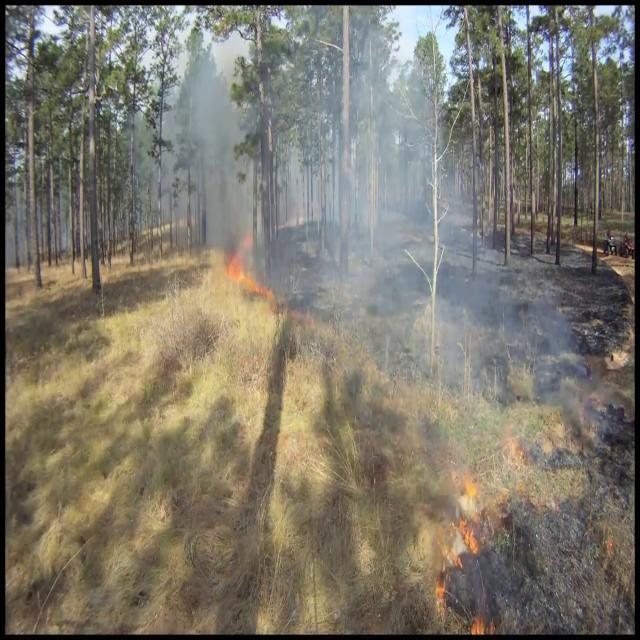Fire: (416, 518, 484, 638), (216, 260, 246, 292)
Smoke: (296, 132, 608, 600), (182, 38, 250, 278)
